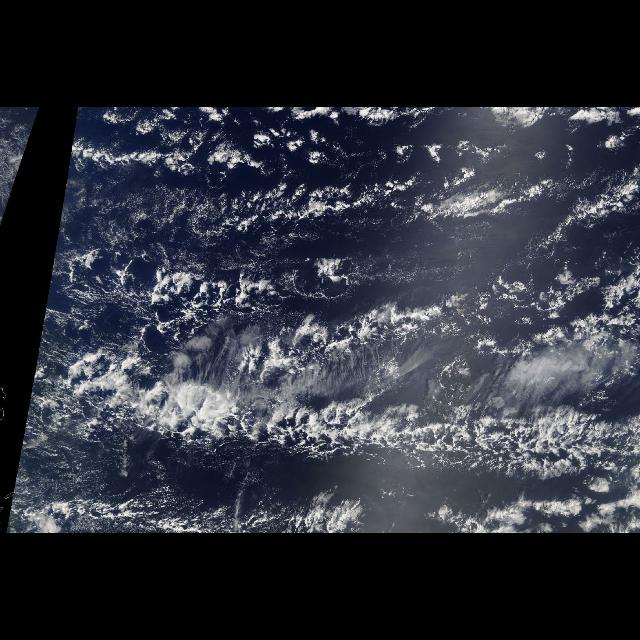Fish: (72, 165, 640, 490)
Gravel: (72, 225, 500, 471)
Sugar: (28, 434, 216, 532), (80, 181, 292, 265)
